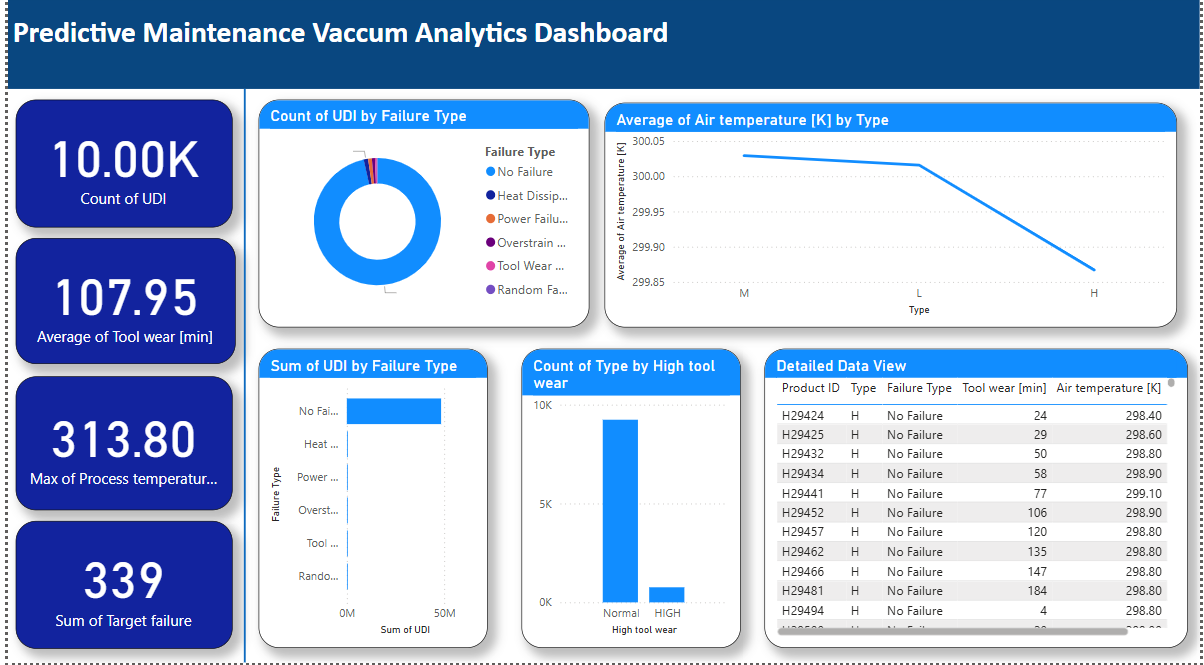

The page's visual inventory and layout, read from the dashboard file:
{"tool":"powerbi","page":{"name":"Page 1","canvas":[1280,720],"ordinal":0},"visuals":[{"type":"barChart","fields":{"Category":["equipment_maintenance predictive_maintenance.Failure Type"],"Y":["Sum(equipment_maintenance predictive_maintenance.UDI)"]},"box":[269.5,383.6,245.8,321.4],"z":0},{"type":"lineStackedColumnComboChart","fields":{"Category":["equipment_maintenance predictive_maintenance.High tool wear"],"Y":["CountNonNull(equipment_maintenance predictive_maintenance.Type)"]},"box":[550.9,383.6,235.5,321.4],"z":1000},{"type":"card","fields":{"Values":["CountNonNull(equipment_maintenance predictive_maintenance.UDI)"]},"box":[8.3,115.5,232.7,137],"z":2000},{"type":"card","fields":{"Values":["Avg(equipment_maintenance predictive_maintenance.Tool wear [min])"]},"box":[8.3,264.1,236,135.4],"z":3000},{"type":"card","fields":{"Values":["Max(equipment_maintenance predictive_maintenance.Process temperature [K])"]},"box":[8.3,412.7,232.7,143.6],"z":4000},{"type":"card","fields":{"Values":["Sum(equipment_maintenance predictive_maintenance.Target)"]},"box":[8.3,567.8,232.7,137],"z":5000},{"type":"donutChart","fields":{"Y":["CountNonNull(equipment_maintenance predictive_maintenance.UDI)"],"Category":["equipment_maintenance predictive_maintenance.Failure Type"]},"box":[269.5,115.5,355.4,244.4],"z":6000},{"type":"lineChart","fields":{"Category":["equipment_maintenance predictive_maintenance.Type"],"Y":["Avg(equipment_maintenance predictive_maintenance.Air temperature [K])"]},"box":[639.8,118.5,614.6,241.4],"z":7000},{"type":"tableEx","title":"Detailed Data View","fields":{"Values":["equipment_maintenance predictive_maintenance.Product ID","equipment_maintenance predictive_maintenance.Type","equipment_maintenance predictive_maintenance.Failure Type","equipment_maintenance predictive_maintenance.Tool wear [min]","equipment_maintenance predictive_maintenance.Air temperature [K]","equipment_maintenance predictive_maintenance.Target"]},"box":[811.5,383.6,454.6,321.4],"z":8000},{"type":"textbox","box":[0,0,1279.3,104],"z":9000},{"type":"shape","box":[127.1,104,254.2,615.7],"z":13000}]}

Visuals, with their boxes in screenshot pixels (x1, y1, x2, y2), scaled from the page's 1280x720 canvas onto the 1204x665 screenshot:
barChart - equipment_maintenance predictive_maintenance.Failure Type x Sum(equipment_maintenance predictive_maintenance.UDI): [left=253, top=354, right=485, bottom=651]
lineStackedColumnComboChart - equipment_maintenance predictive_maintenance.High tool wear x CountNonNull(equipment_maintenance predictive_maintenance.Type): [left=518, top=354, right=740, bottom=651]
card - CountNonNull(equipment_maintenance predictive_maintenance.UDI): [left=8, top=107, right=227, bottom=233]
card - Avg(equipment_maintenance predictive_maintenance.Tool wear [min]): [left=8, top=244, right=230, bottom=369]
card - Max(equipment_maintenance predictive_maintenance.Process temperature [K]): [left=8, top=381, right=227, bottom=514]
card - Sum(equipment_maintenance predictive_maintenance.Target): [left=8, top=524, right=227, bottom=651]
donutChart - CountNonNull(equipment_maintenance predictive_maintenance.UDI) x equipment_maintenance predictive_maintenance.Failure Type: [left=253, top=107, right=588, bottom=332]
lineChart - equipment_maintenance predictive_maintenance.Type x Avg(equipment_maintenance predictive_maintenance.Air temperature [K]): [left=602, top=109, right=1180, bottom=332]
"Detailed Data View" tableEx: [left=763, top=354, right=1191, bottom=651]
textbox: [left=0, top=0, right=1203, bottom=96]
shape: [left=120, top=96, right=359, bottom=664]
